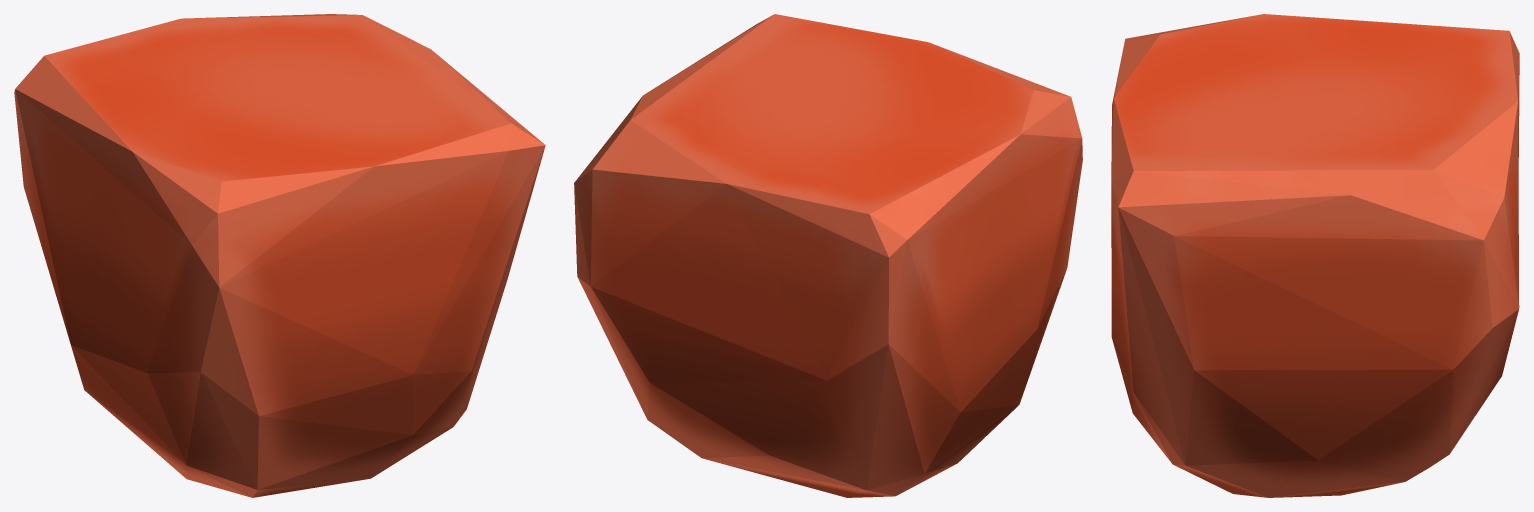
The model's file is Platform_1_1.fbx.
3 views of the same model, side by side, from view 1: azimuth 30°, elevation 25°; view 2: azimuth 150°, elevation 25°; view 3: azimuth 270°, elevation 25° (orthographic). The views are drawn at different scales.
Visible parts, largest first — view 1: Cube.027; view 2: Cube.027; view 3: Cube.027.
Boxes of the visible parts, left/top/right/bottom form: Cube.027: left=14, top=14, right=545, bottom=497; Cube.027: left=574, top=14, right=1082, bottom=497; Cube.027: left=1111, top=14, right=1519, bottom=497.
Size of the model in its own units: 99.94 by 99.16 by 99.71.
